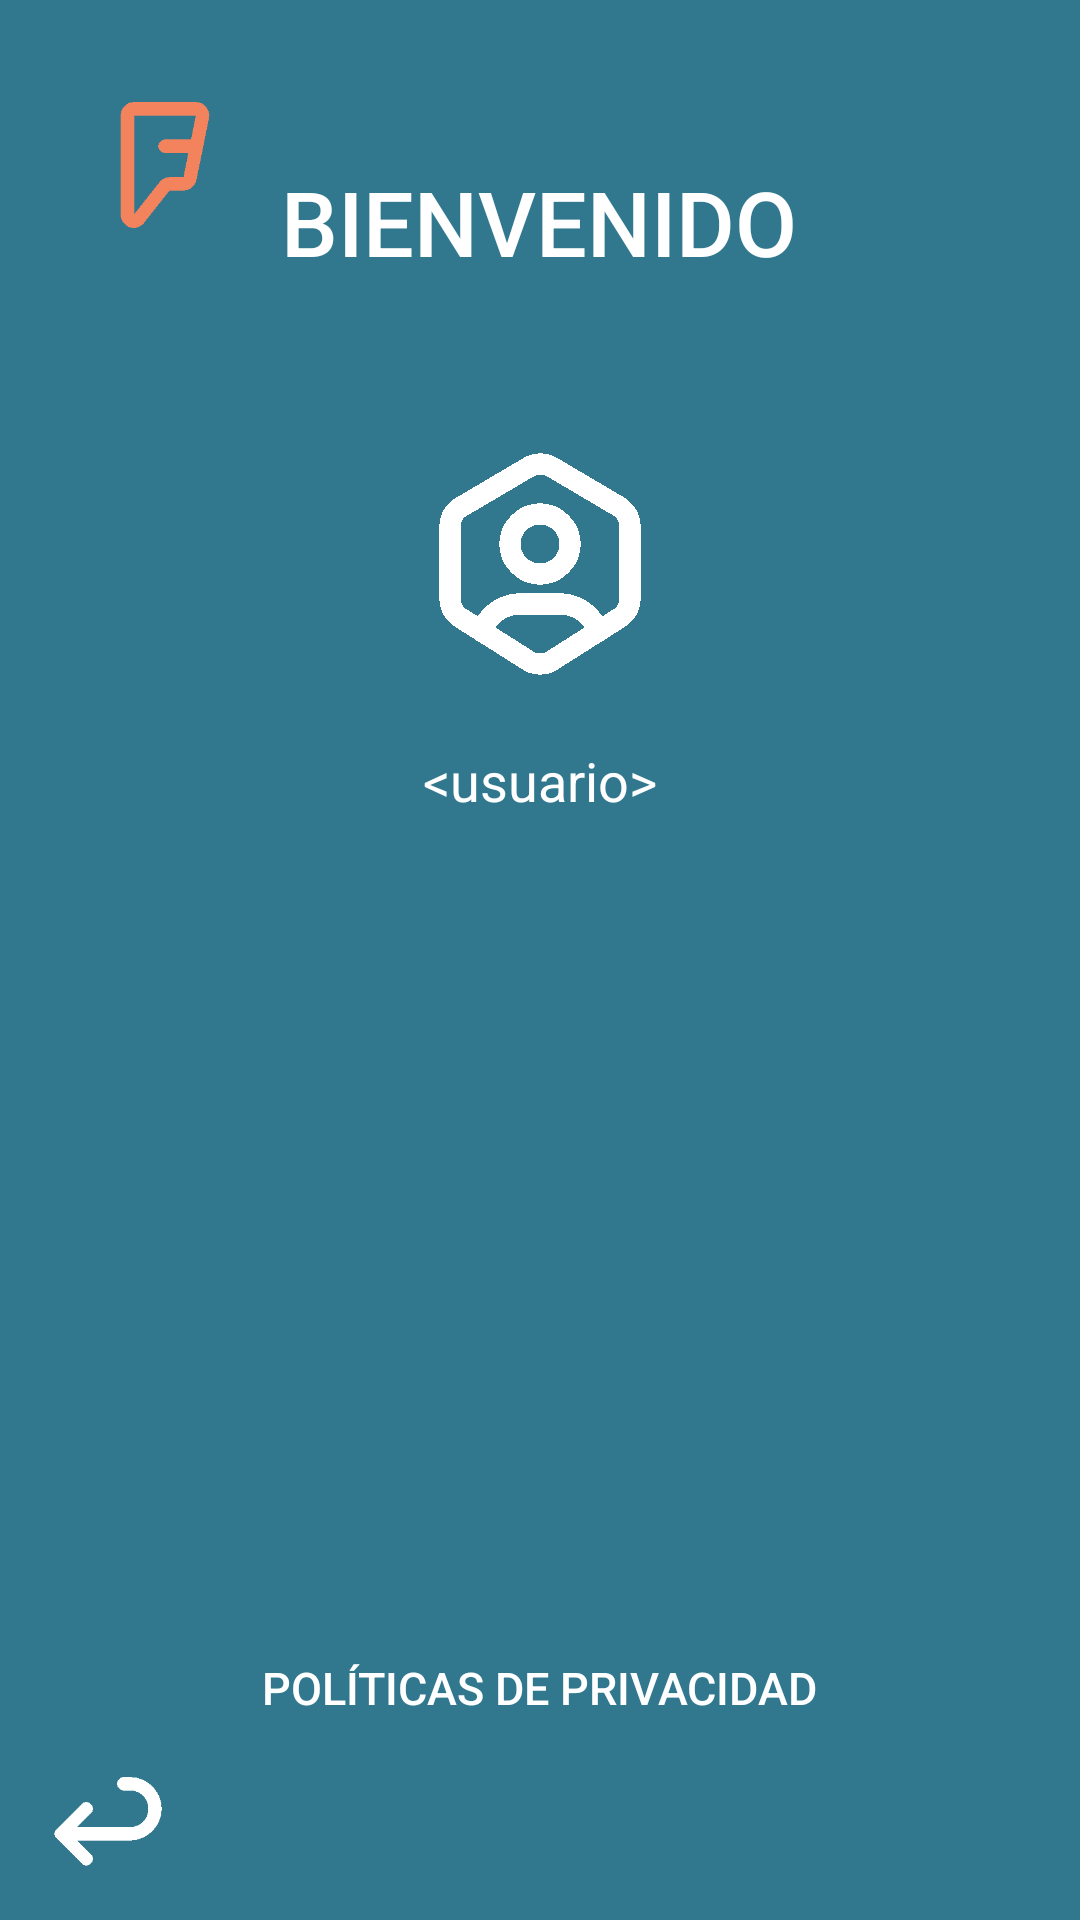

Named icons in this screenshot (1080 x 1920) and their bounding boxes, (x1, y1, x2, y2):
arrow back: (54, 1777, 162, 1866)
user hexagon: (439, 453, 641, 675)
